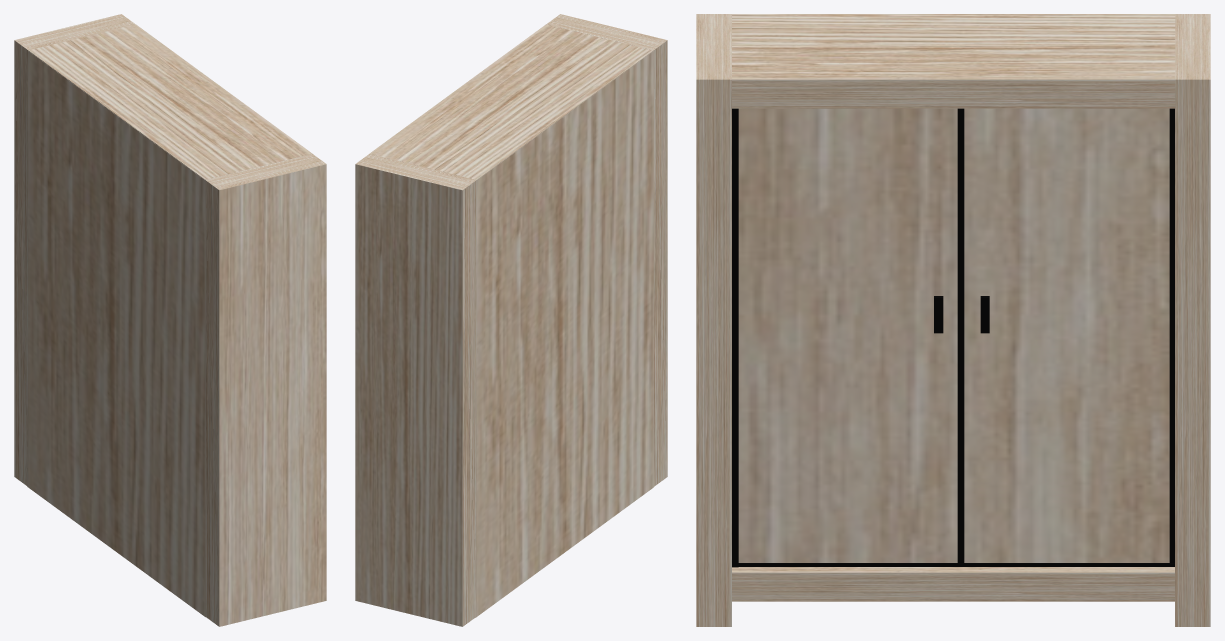
The model's file is lemari_kayu.gltf.
3 views of the same model, side by side, from view 1: azimuth 30°, elevation 25°; view 2: azimuth 150°, elevation 25°; view 3: azimuth 270°, elevation 25° (orthographic). The views are drawn at different scales.
Visible parts, largest first — view 1: Cube.013, Cube.008, Cube.010, Cube.012; view 2: Cube.013, Cube.012, Cube.010, Cube.008; view 3: Cube.011, Cube.010, Cube.008, Cube.012, Cube.006, Cube.016, Cube.017, Cube.018, Cube.019.
Part boxes in pixels (left/top/right/bottom): Cube.013: left=27, top=51, right=205, bottom=617; Cube.008: left=205, top=154, right=326, bottom=626; Cube.010: left=28, top=24, right=312, bottom=179; Cube.012: left=14, top=14, right=134, bottom=486; Cube.013: left=475, top=51, right=653, bottom=617; Cube.012: left=355, top=154, right=476, bottom=626; Cube.010: left=369, top=24, right=653, bottom=179; Cube.008: left=546, top=14, right=667, bottom=486; Cube.011: left=738, top=108, right=1169, bottom=562; Cube.010: left=732, top=14, right=1175, bottom=108; Cube.008: left=696, top=14, right=731, bottom=626; Cube.012: left=1175, top=14, right=1210, bottom=626; Cube.006: left=732, top=567, right=1174, bottom=601; Cube.016: left=957, top=108, right=964, bottom=566; Cube.017: left=732, top=108, right=738, bottom=567; Cube.018: left=1169, top=108, right=1174, bottom=562; Cube.019: left=738, top=563, right=1174, bottom=566.
Size of the model in its own units: 1.72 by 6.67 by 5.67.
Materials: 13 (13 with a texture image).
